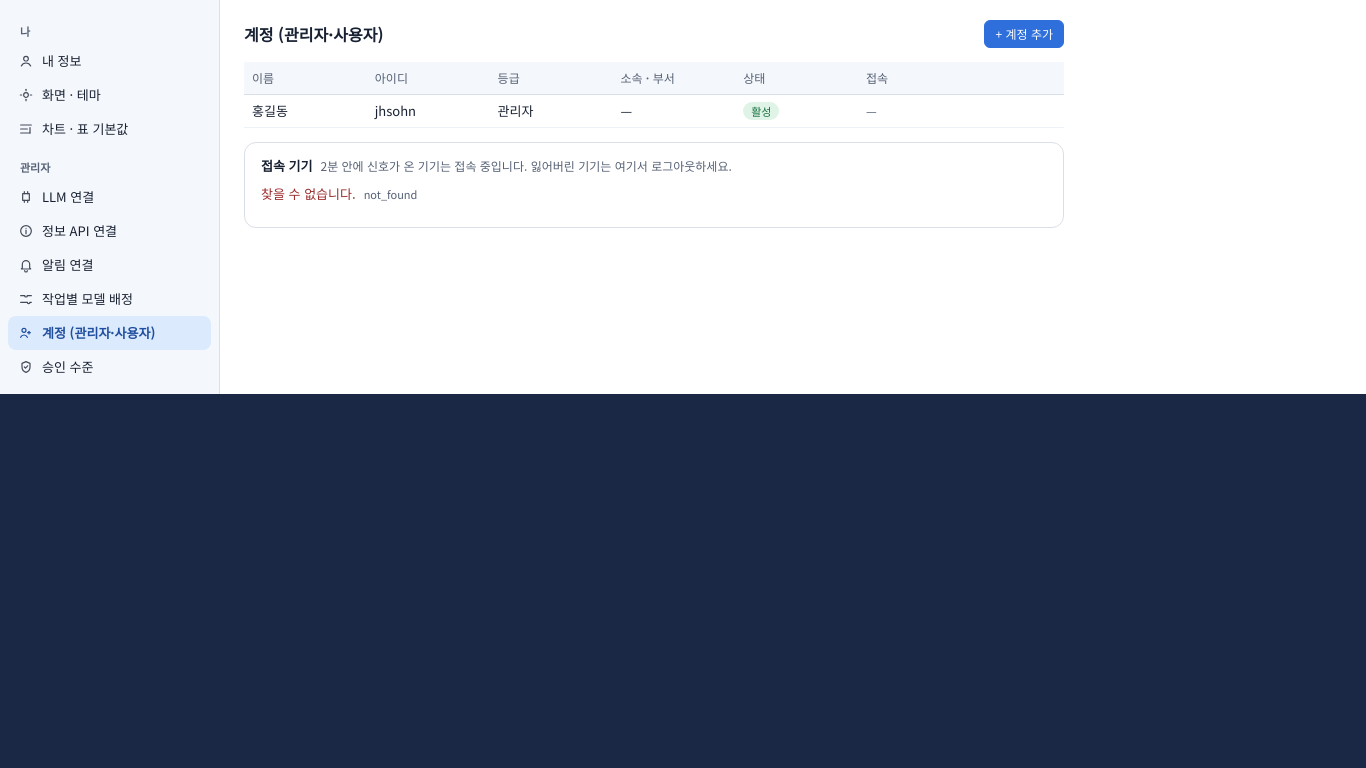
admin lists accounts and adds one; the password field is cleared
Expected: the text "jhsohn" is shown, x1=375 y1=101 x2=416 y2=120
Click the button "+ 계정 추가" at (1024, 34), box x1=984 y1=20 x2=1064 y2=48
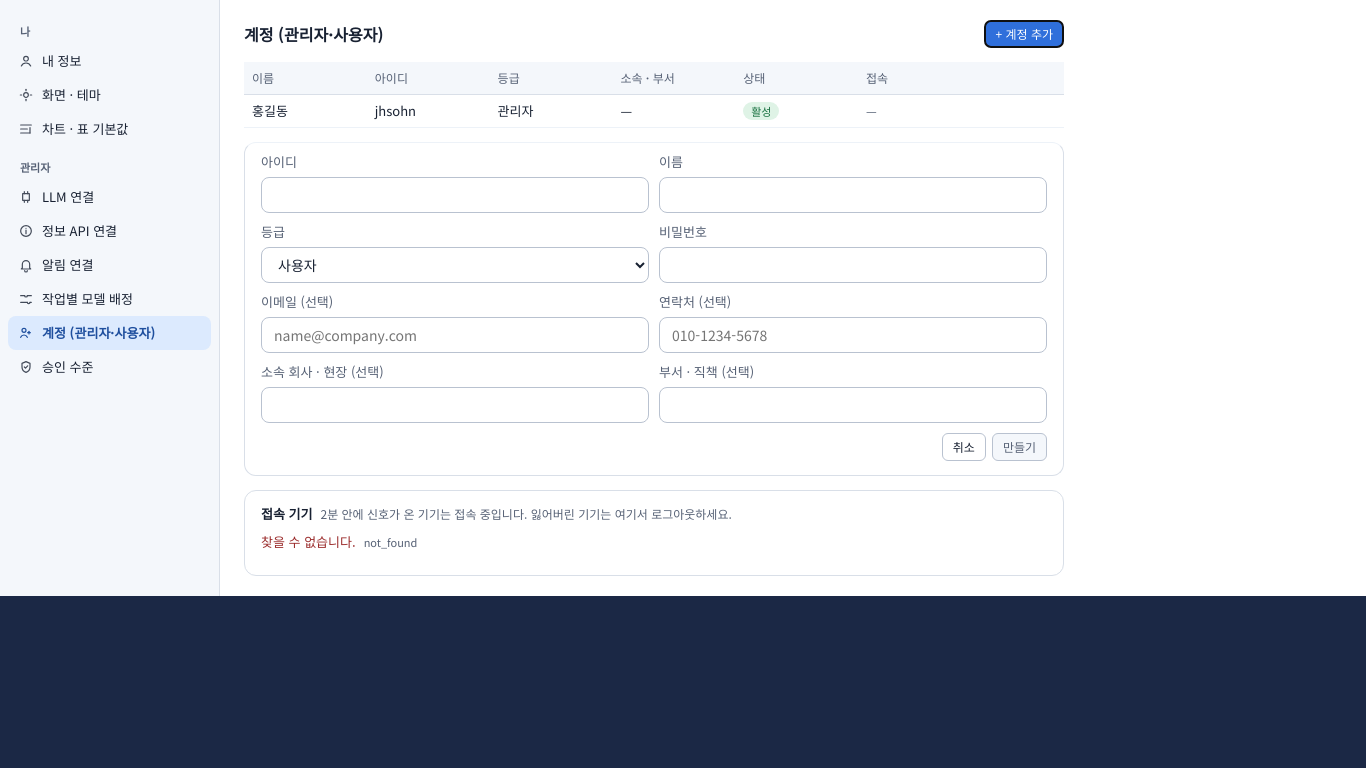
Type "kim" into the field labelled "아이디" at (455, 195), box x1=261 y1=177 x2=649 y2=213
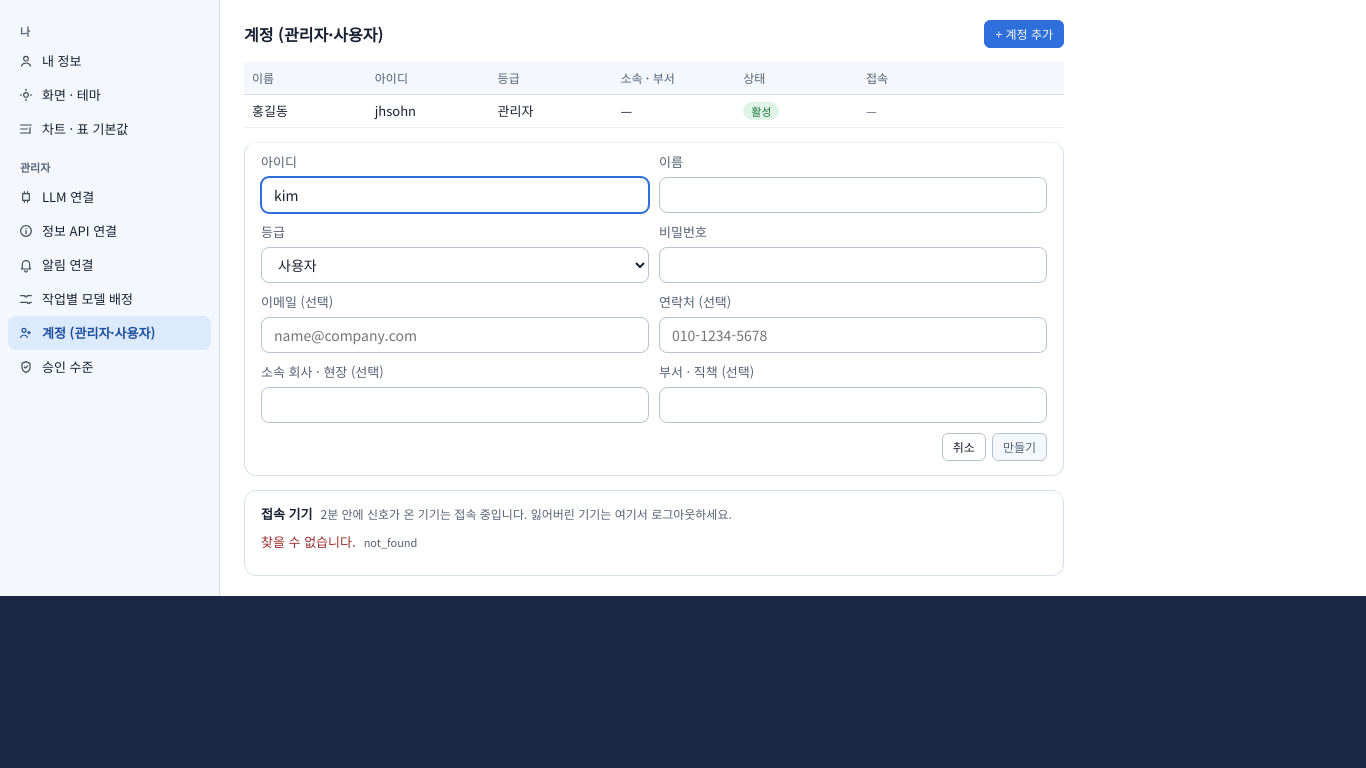
Type "김현장" into the field labelled "이름" at (853, 195), box x1=659 y1=177 x2=1047 y2=213
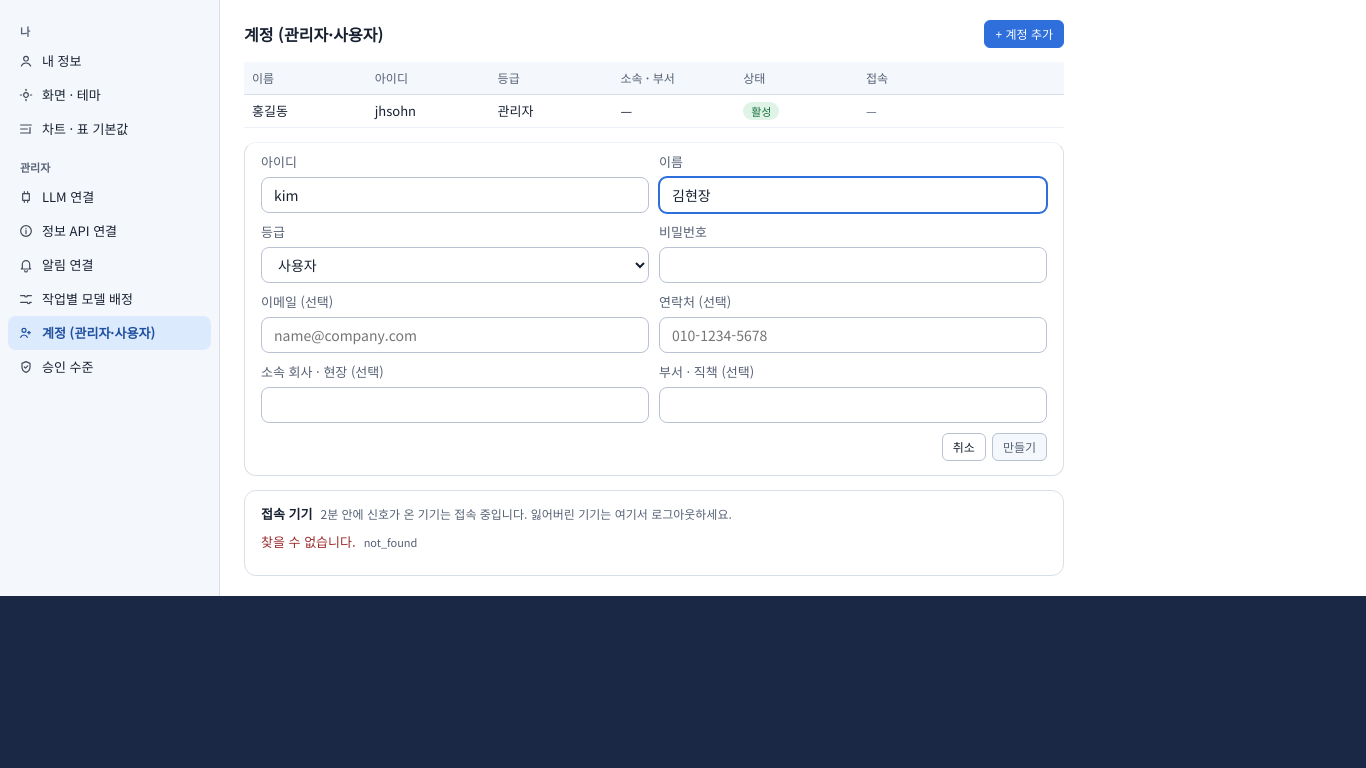
Type "fake-pass-1234" into the password field labelled "비밀번호" at (853, 265), box x1=659 y1=247 x2=1047 y2=283
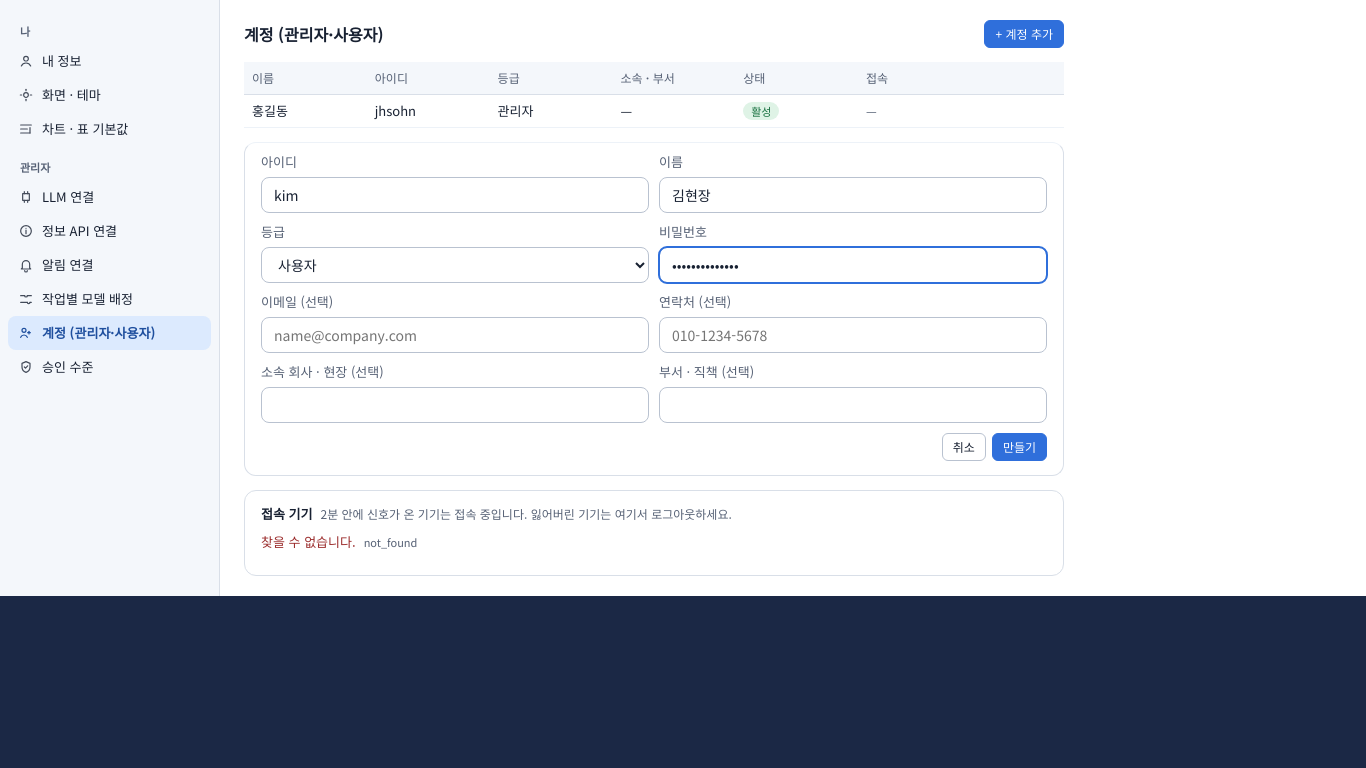
Click the button "만들기" at (1019, 447), box x1=992 y1=433 x2=1047 y2=461
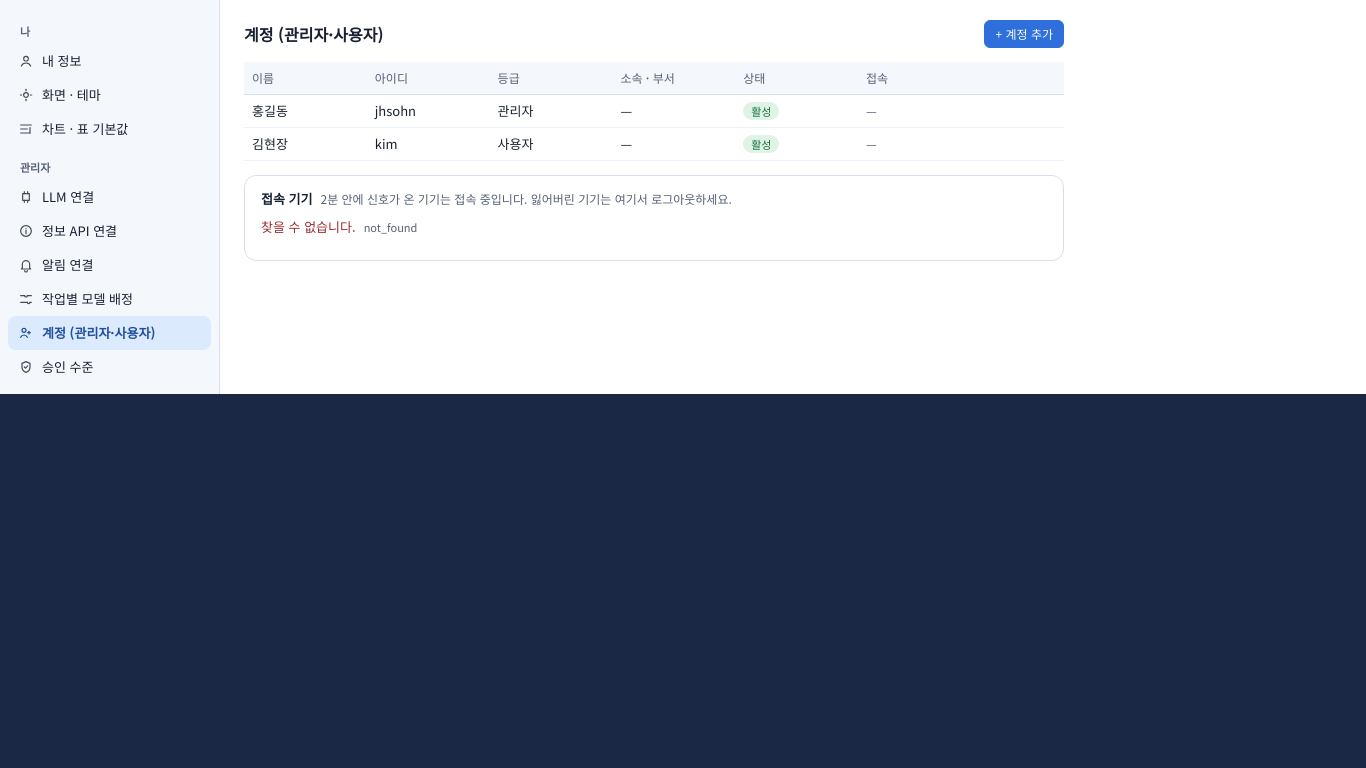
Result: the text "kim" is shown at x1=375 y1=134 x2=398 y2=153
